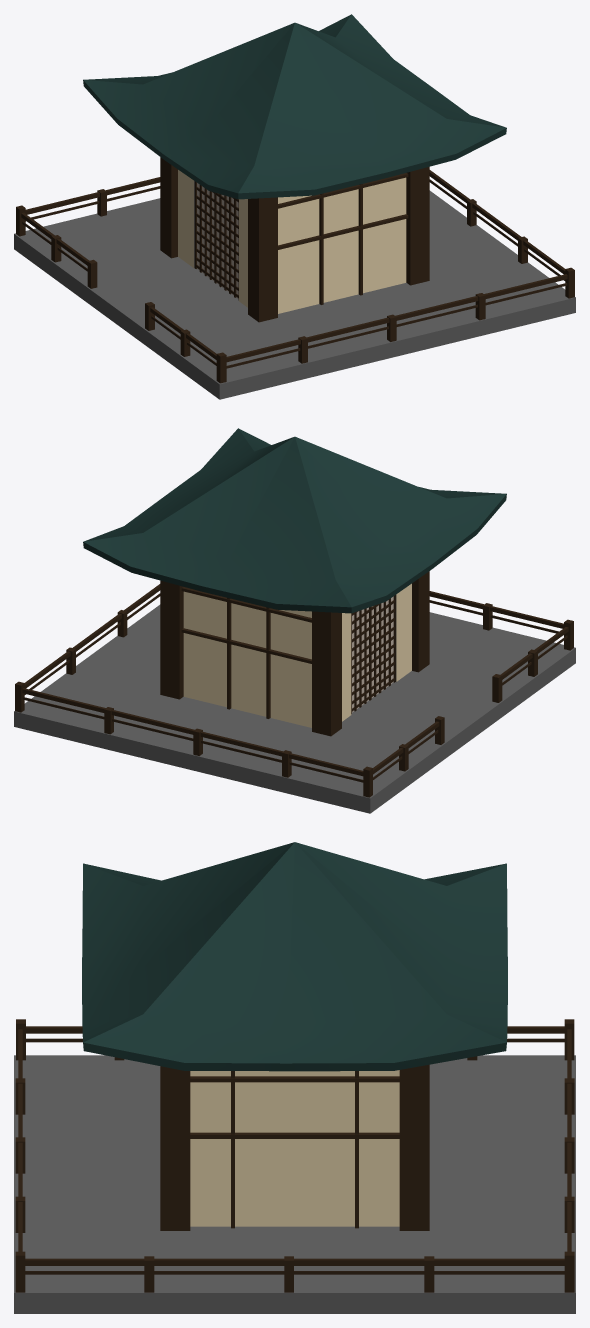
The model's file is houme03_2.fbx.
3 renders of one model, top to bottom at view 1: azimuth 30°, elevation 25°; view 2: azimuth 150°, elevation 25°; view 3: azimuth 270°, elevation 25°, orthographic. The views are drawn at different scales.
Parts seen in each view (by area): view 1: houme03_2; view 2: houme03_2; view 3: houme03_2.
Part boxes in pixels (x1=…): houme03_2: x1=14, y1=14, x2=575, y2=399; houme03_2: x1=14, y1=428, x2=575, y2=813; houme03_2: x1=14, y1=842, x2=575, y2=1313.
Bounding box in the file's own units: 1200 × 832 × 1200.
